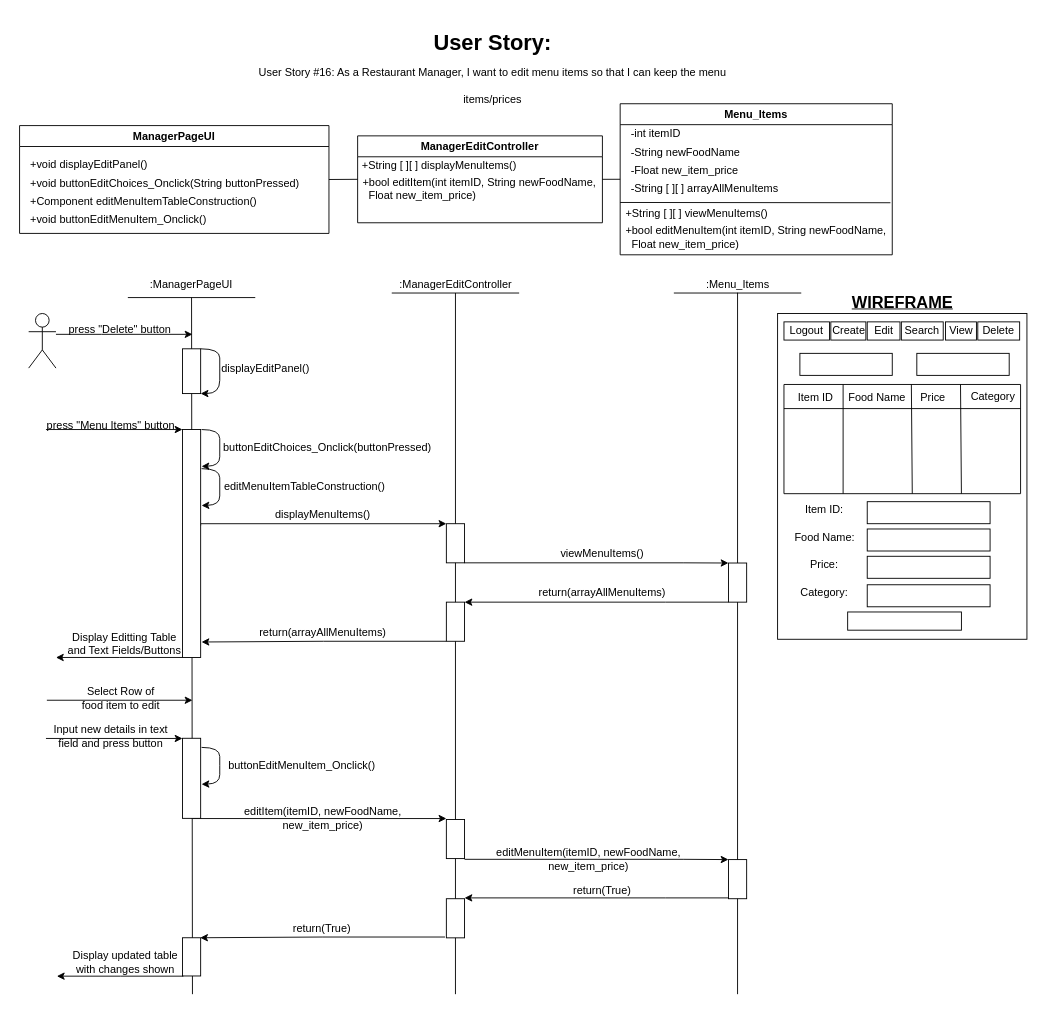
Some shapes in this 1043 by 1011 pixel diagram are drawn without their labels. The centre of each missing label's shape, as x and y in pixels:
"Coupon" belongs at point 962,363.
"Edit Menu Item" belongs at point 904,620.
"Menu Items" belongs at point 845,363.
"Restaurant Manager" belongs at point 42,340.
